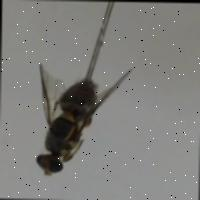Oriental-fruit-fly: (28, 50, 134, 176)
